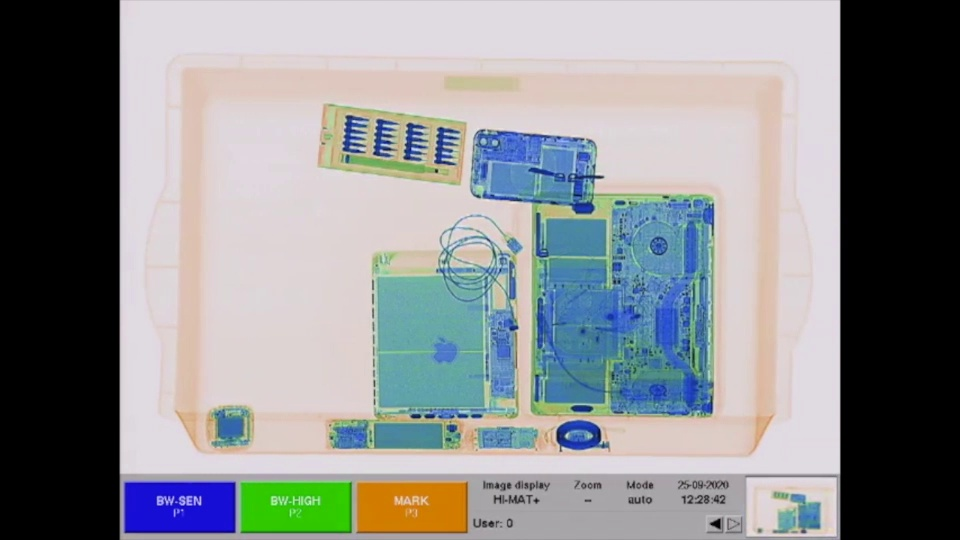tray_img: (140, 40, 823, 462)
